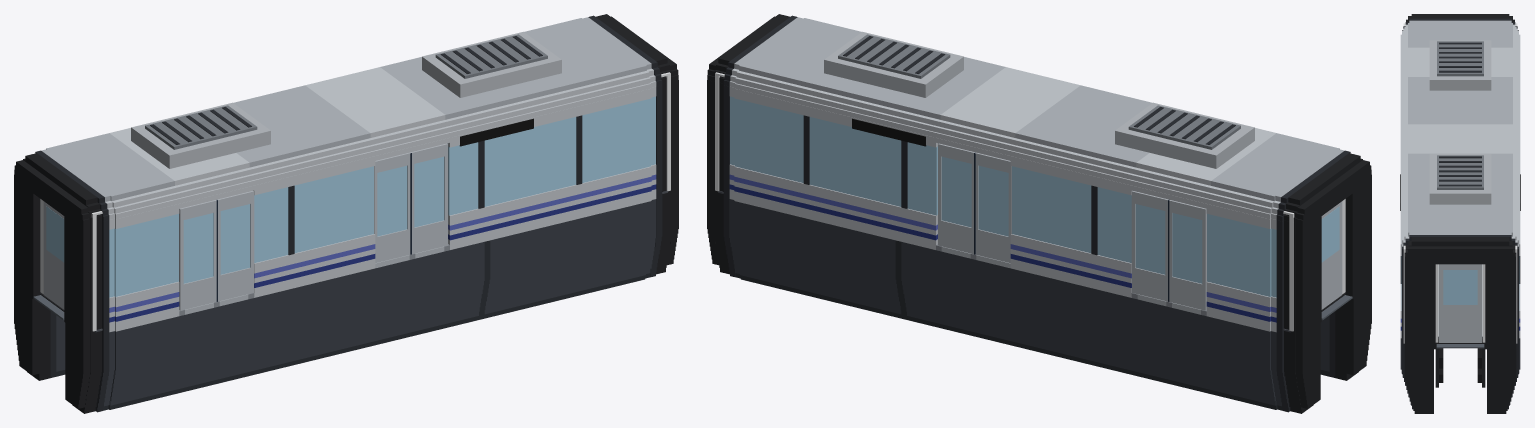
The model's file is innovia_car.obj.
3 renders of one model, left to right at view 1: azimuth 30°, elevation 25°; view 2: azimuth 150°, elevation 25°; view 3: azimuth 270°, elevation 25°, orthographic. The views are drawn at different scales.
Parts seen in each view (by area): view 1: SHELL, SHELL_diaphragm, SHELL_roof, EXTERNAL_DOOR_4_CG_DR1_TOGGLE_TL_-0.74_X, EXTERNAL_DOOR_10_CG_DR2_TOGGLE_TL_-0.74_X, EXTERNAL_DOOR_5_CG_DR1_TOGGLE_TL_0.74_X, EXTERNAL_DOOR_11_CG_DR2_TOGGLE_TL_0.74_X, CONNECTING_DOOR_1_CG_CR_TOGGLE_TL_0.98_Z, SHELL_end, SHELL_sign; view 2: SHELL, SHELL_diaphragm, SHELL_roof, EXTERNAL_DOOR_7_CG_DL1_TOGGLE_TL_-0.74_X, EXTERNAL_DOOR_13_CG_DL2_TOGGLE_TL_-0.74_X, EXTERNAL_DOOR_8_CG_DL1_TOGGLE_TL_0.74_X, EXTERNAL_DOOR_14_CG_DL2_TOGGLE_TL_0.74_X, CONNECTING_DOOR_1_CG_CR_TOGGLE_TL_0.98_Z, SHELL_end, SHELL_sign; view 3: SHELL, SHELL_diaphragm, SHELL_roof, CONNECTING_DOOR_2_CG_CF_TOGGLE_TL_0.98_Z, SHELL_end, BOGEY_FRONT, SHELL_gangway.
Part boxes in pixels (x1,y1,x2,y2): SHELL: (23, 14, 672, 413); SHELL_diaphragm: (14, 16, 678, 408); SHELL_roof: (131, 31, 561, 168); EXTERNAL_DOOR_4_CG_DR1_TOGGLE_TL_-0.74_X: (179, 199, 217, 310); EXTERNAL_DOOR_10_CG_DR2_TOGGLE_TL_-0.74_X: (374, 152, 411, 262); EXTERNAL_DOOR_5_CG_DR1_TOGGLE_TL_0.74_X: (217, 191, 254, 301); EXTERNAL_DOOR_11_CG_DR2_TOGGLE_TL_0.74_X: (410, 143, 447, 254); CONNECTING_DOOR_1_CG_CR_TOGGLE_TL_0.98_Z: (43, 201, 64, 309); SHELL_end: (40, 72, 670, 331); SHELL_sign: (459, 118, 533, 146); SHELL: (713, 14, 1362, 413); SHELL_diaphragm: (707, 16, 1371, 408); SHELL_roof: (824, 31, 1254, 168); EXTERNAL_DOOR_7_CG_DL1_TOGGLE_TL_-0.74_X: (1168, 199, 1206, 310); EXTERNAL_DOOR_13_CG_DL2_TOGGLE_TL_-0.74_X: (974, 152, 1011, 262); EXTERNAL_DOOR_8_CG_DL1_TOGGLE_TL_0.74_X: (1131, 191, 1168, 301); EXTERNAL_DOOR_14_CG_DL2_TOGGLE_TL_0.74_X: (938, 143, 974, 254); CONNECTING_DOOR_1_CG_CR_TOGGLE_TL_0.98_Z: (1321, 201, 1342, 309); SHELL_end: (715, 72, 1345, 331); SHELL_sign: (852, 118, 926, 146); SHELL: (1400, 14, 1520, 413); SHELL_diaphragm: (1405, 16, 1515, 410); SHELL_roof: (1429, 40, 1491, 204); CONNECTING_DOOR_2_CG_CF_TOGGLE_TL_0.98_Z: (1439, 264, 1481, 342); SHELL_end: (1403, 23, 1517, 343); BOGEY_FRONT: (1435, 347, 1485, 387); SHELL_gangway: (1436, 344, 1484, 347).
Size of the model in its own units: 12.92 by 4.8 by 2.82.
Materials: 1 (1 with a texture image).
